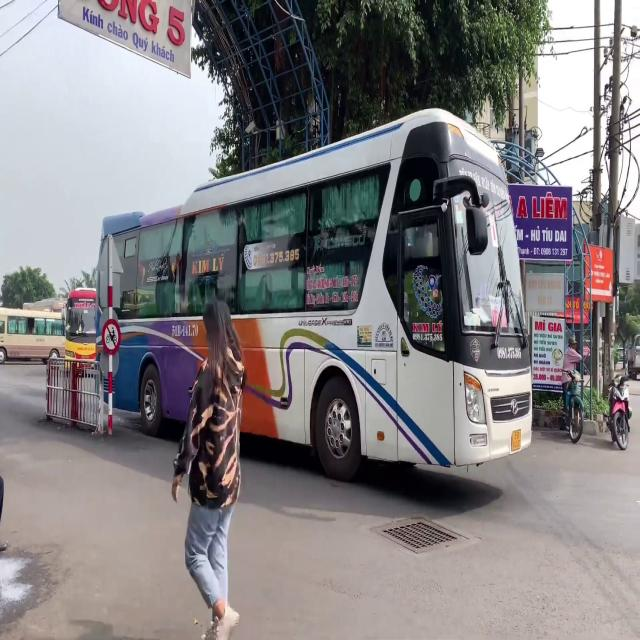bien_vang: (509, 425, 523, 455)
